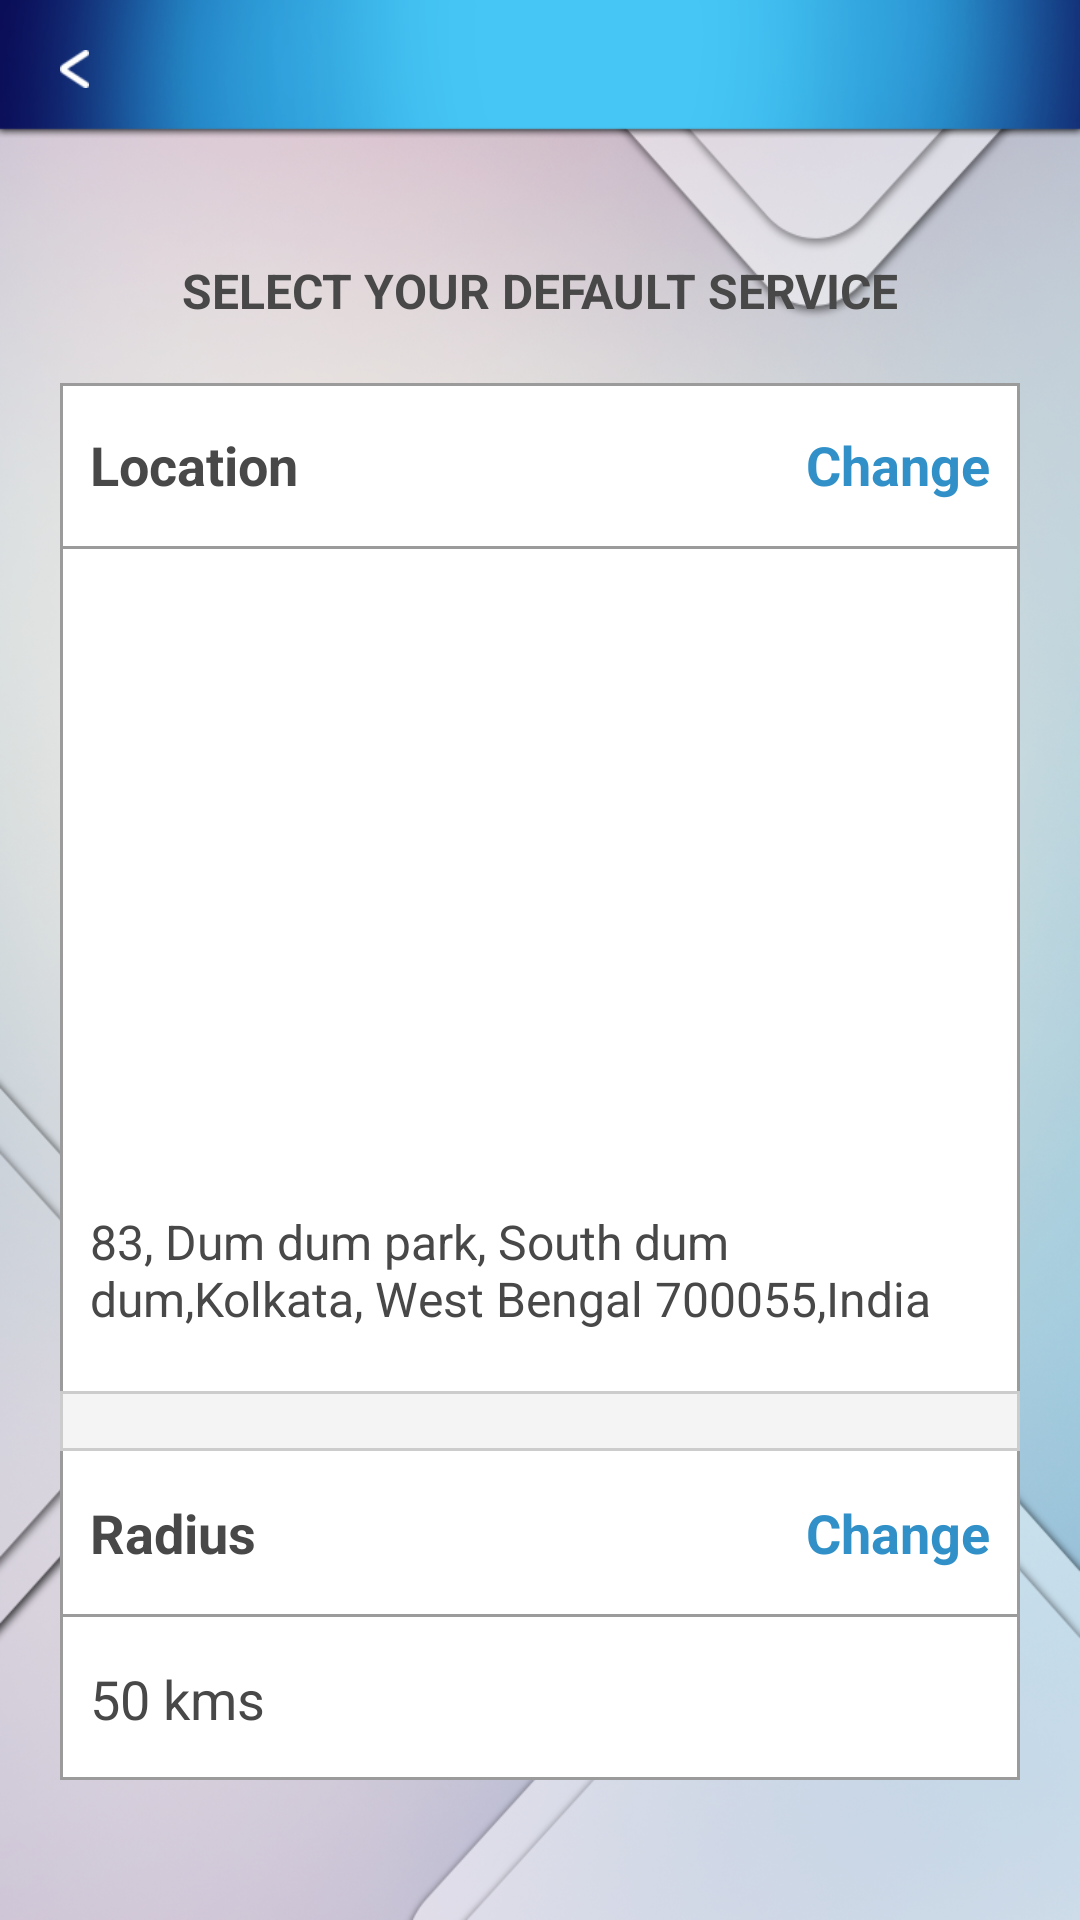

Locate icon controls on the screen. Image size 1080px x 1920px, boxes as (x1, y1, x2, y2).
back: (60, 50, 89, 88)
